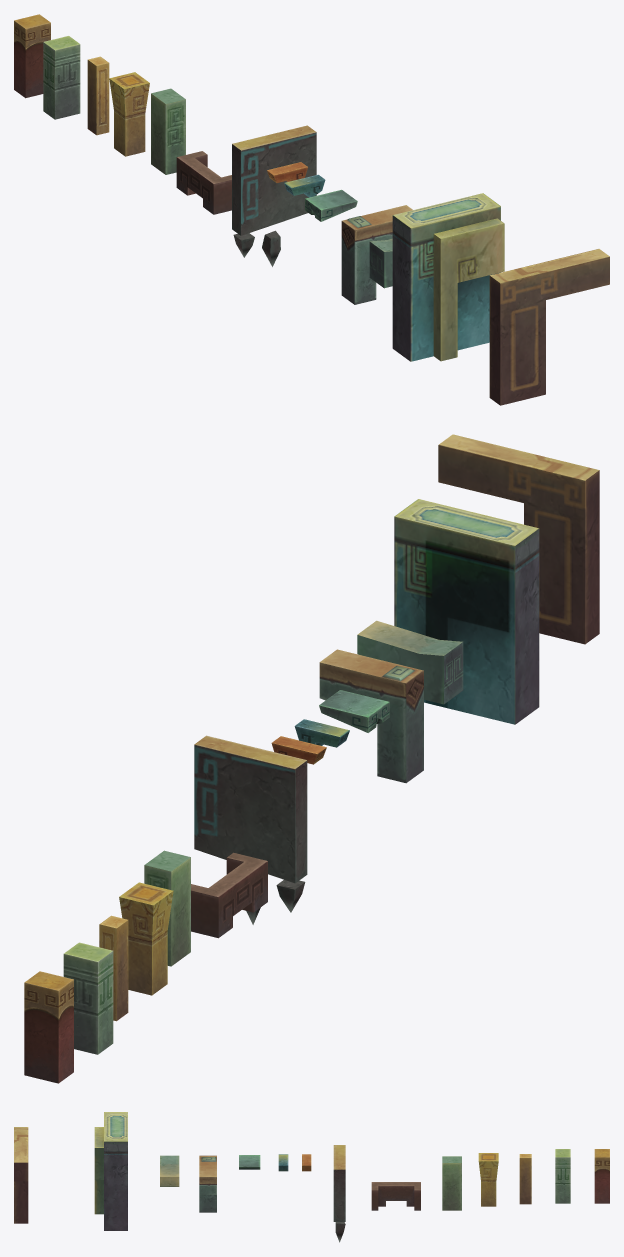
File: shizhu.FBX
3 views of the same model, one above another, from view 1: azimuth 30°, elevation 25°; view 2: azimuth 150°, elevation 25°; view 3: azimuth 270°, elevation 25° (orthographic). The views are drawn at different scales.
Visible parts, largest first — view 1: shizhu13, shizhu14, shizhu7, shizhu11, shizhu2, shizhu4, shizhu5, shizhu1, shizhu6, shizhu3, shizhu10, shizhu12 (+2 smaller); view 2: shizhu13, shizhu14, shizhu7, shizhu11, shizhu1, shizhu12, shizhu4, shizhu2, shizhu6, shizhu5, shizhu3, shizhu10 (+2 smaller); view 3: shizhu13, shizhu14, shizhu6, shizhu7, shizhu5, shizhu11, shizhu4, shizhu2, shizhu1, shizhu3, shizhu12, shizhu10.
Boxes of the visible parts, bbox=[...] form: shizhu13: bbox=[392, 193, 504, 361]; shizhu14: bbox=[489, 249, 609, 405]; shizhu7: bbox=[232, 125, 316, 266]; shizhu11: bbox=[341, 205, 412, 304]; shizhu2: bbox=[43, 36, 80, 119]; shizhu4: bbox=[109, 72, 149, 156]; shizhu5: bbox=[151, 88, 185, 174]; shizhu1: bbox=[14, 14, 50, 98]; shizhu6: bbox=[176, 151, 231, 214]; shizhu3: bbox=[87, 56, 109, 135]; shizhu10: bbox=[305, 189, 357, 221]; shizhu12: bbox=[369, 238, 392, 288]; shizhu13: bbox=[394, 499, 539, 724]; shizhu14: bbox=[438, 434, 599, 644]; shizhu7: bbox=[194, 735, 307, 924]; shizhu11: bbox=[319, 649, 423, 783]; shizhu1: bbox=[24, 971, 73, 1083]; shizhu12: bbox=[357, 620, 463, 704]; shizhu4: bbox=[119, 882, 173, 995]; shizhu2: bbox=[63, 942, 113, 1054]; shizhu6: bbox=[191, 852, 267, 938]; shizhu5: bbox=[144, 850, 190, 966]; shizhu3: bbox=[99, 915, 128, 1021]; shizhu10: bbox=[319, 690, 389, 732]; shizhu13: bbox=[94, 1112, 127, 1230]; shizhu14: bbox=[14, 1127, 28, 1223]; shizhu6: bbox=[371, 1182, 420, 1210]; shizhu7: bbox=[333, 1145, 345, 1242]; shizhu5: bbox=[442, 1156, 461, 1210]; shizhu11: bbox=[199, 1155, 216, 1212]; shizhu4: bbox=[478, 1153, 498, 1206]; shizhu2: bbox=[555, 1149, 570, 1203]; shizhu1: bbox=[594, 1149, 609, 1203]; shizhu3: bbox=[519, 1154, 531, 1204]; shizhu12: bbox=[160, 1155, 179, 1186]; shizhu10: bbox=[239, 1155, 260, 1169].
Bounding box in the file's own units: 864 × 4422 × 970.
